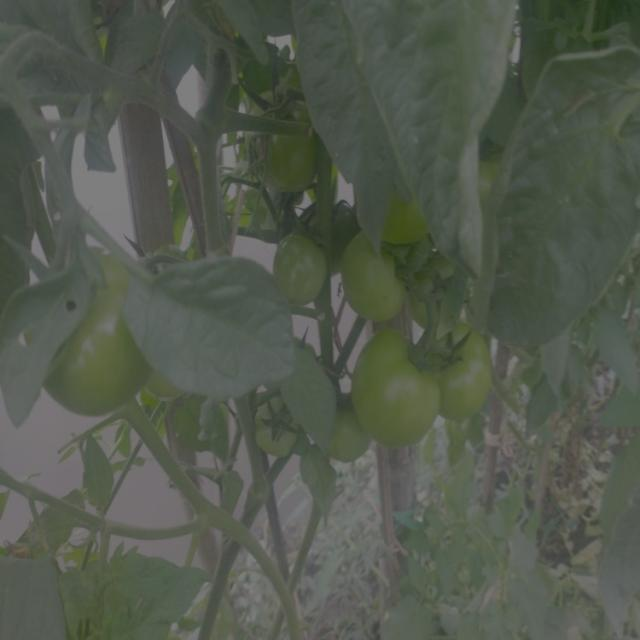tomato: (46, 246, 159, 412), (357, 336, 495, 449), (345, 188, 427, 325), (261, 89, 329, 193), (272, 236, 331, 307), (328, 394, 359, 473), (257, 403, 296, 450)
